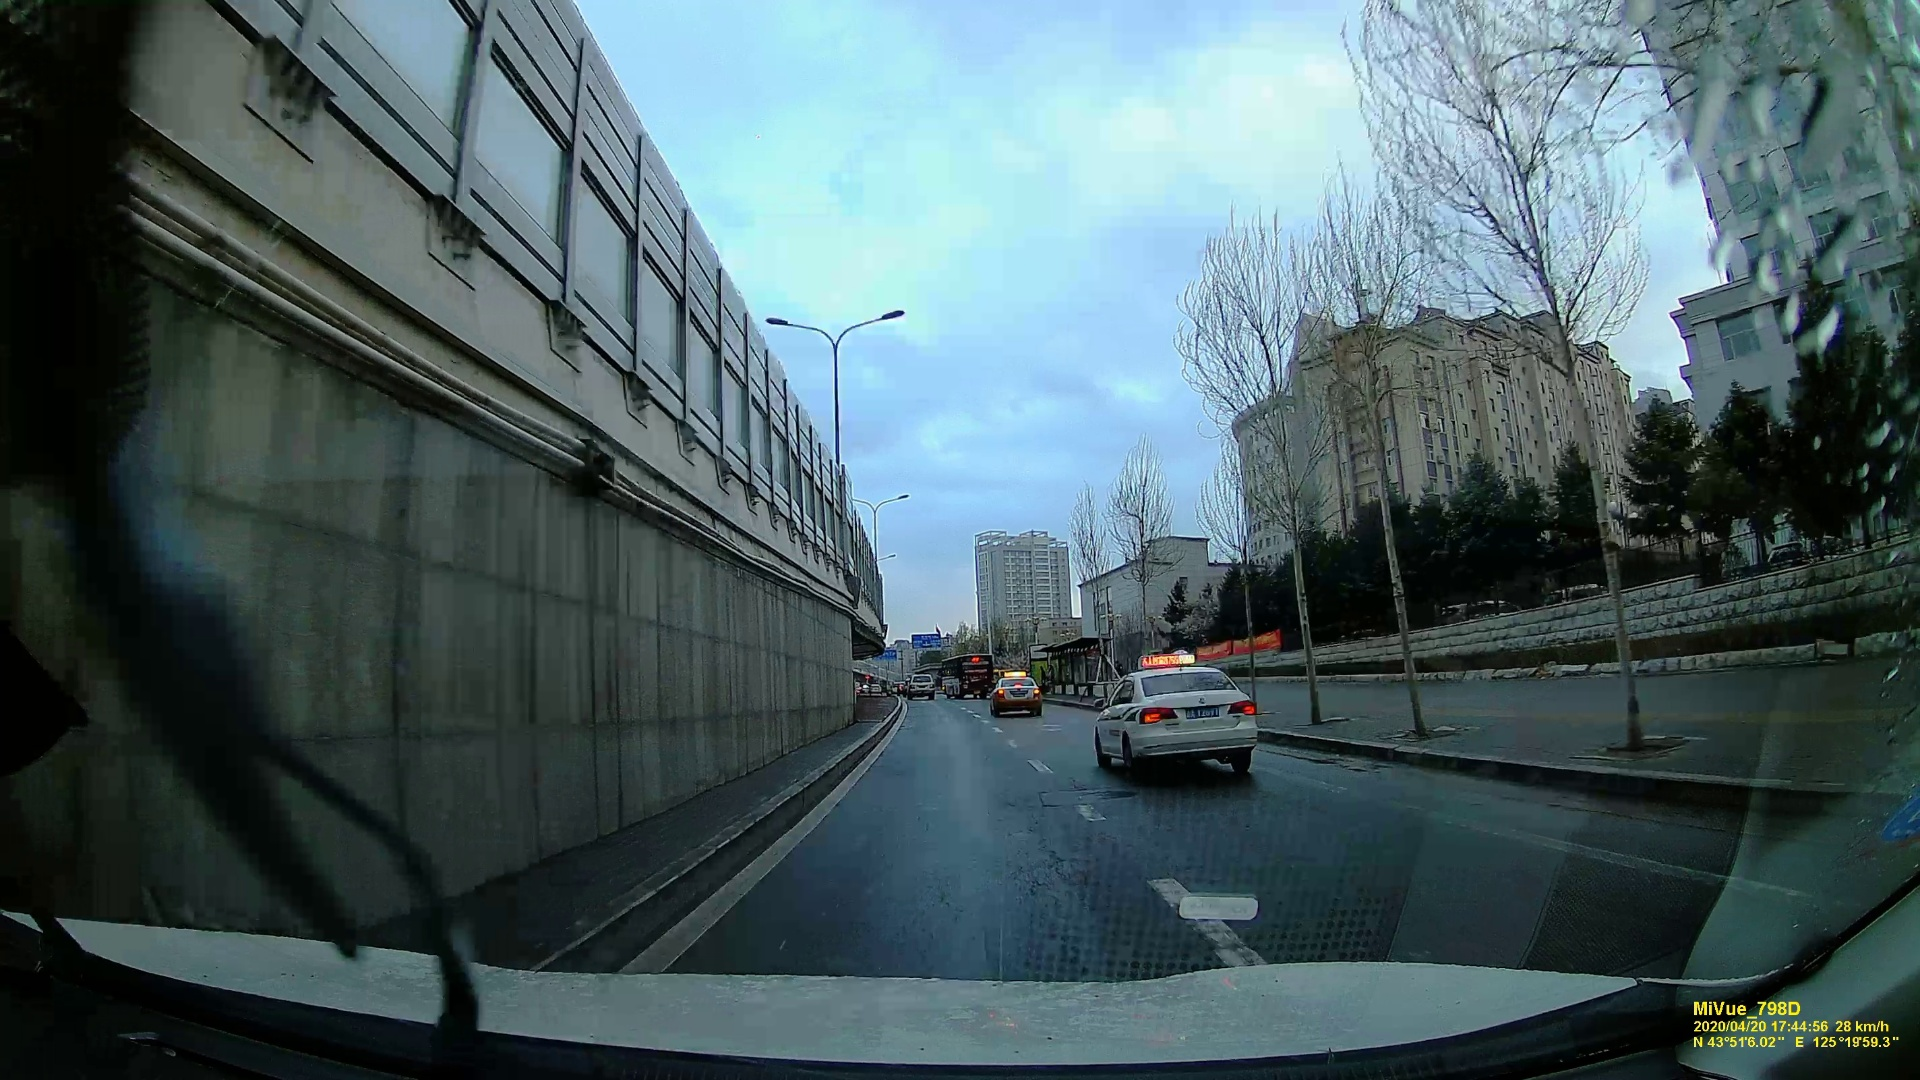traffic_sign: (910, 632, 942, 651), (884, 647, 897, 659)
vehicle: (1091, 661, 1265, 778), (989, 675, 1042, 717), (905, 674, 938, 698)
